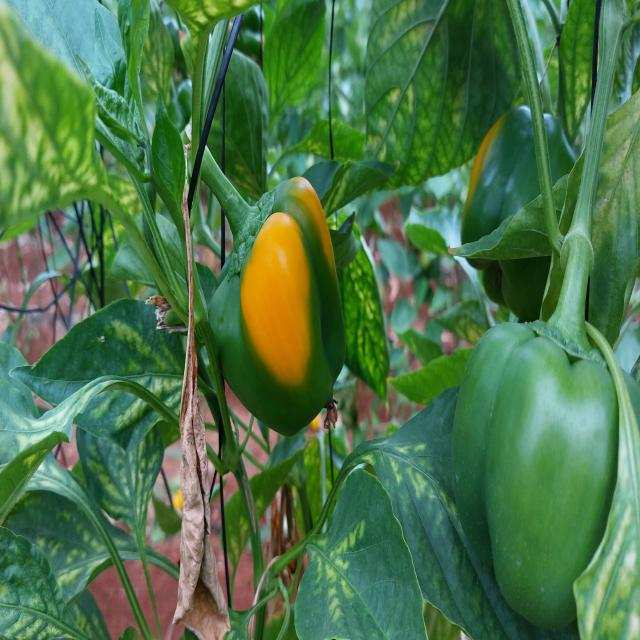Green--Not-ready-to-harvest: (451, 300, 638, 624)
GreenishYellow--Can-be-Harvested: (188, 192, 381, 447)
